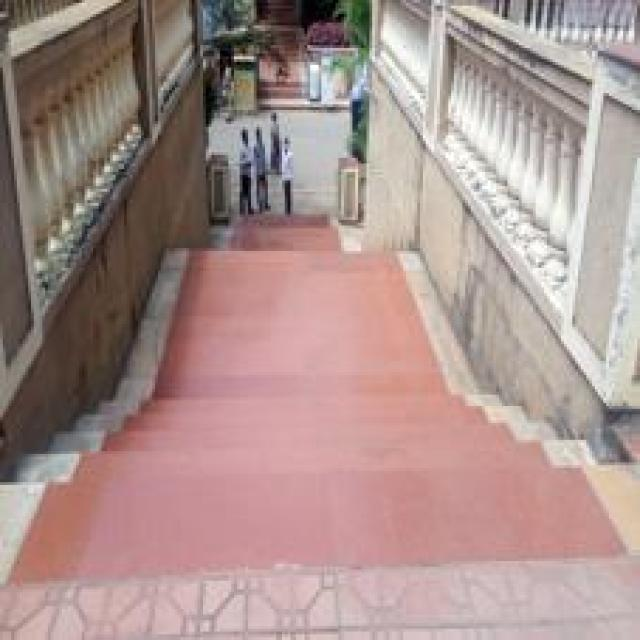downstair: (100, 373, 500, 554)
